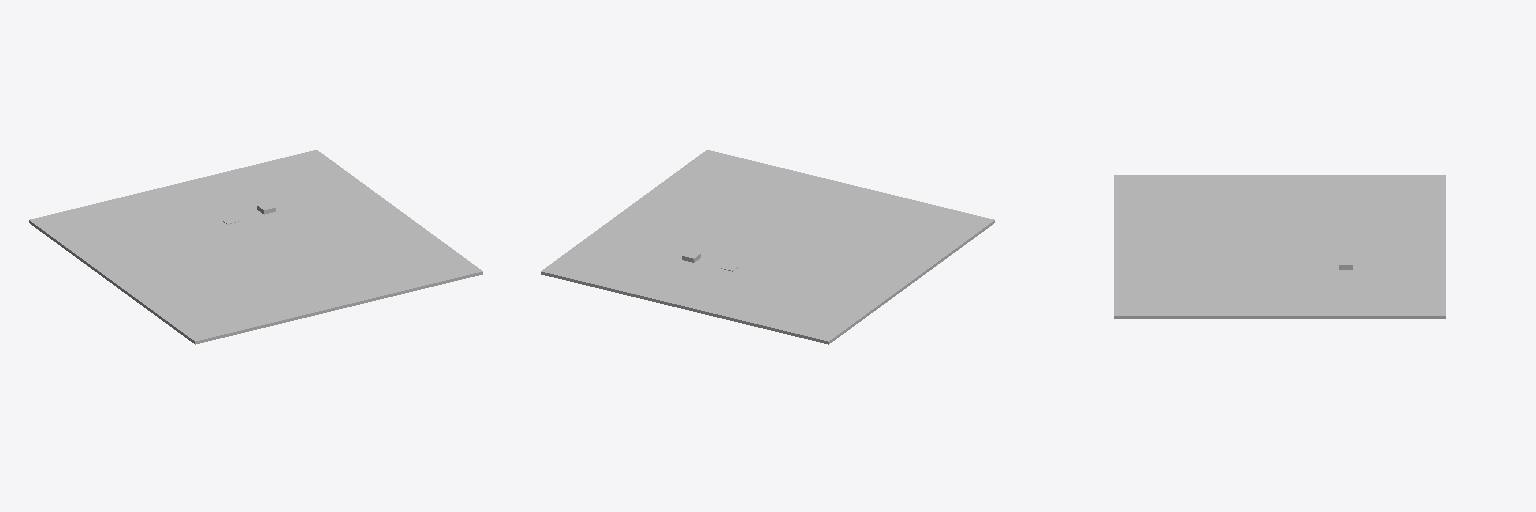
File: SSAO_test.obj
3 renders of one model, left to right at view 1: azimuth 30°, elevation 25°; view 2: azimuth 150°, elevation 25°; view 3: azimuth 270°, elevation 25°, orthographic.
Parts seen in each view (by area): view 1: Cube_Cube.001; view 2: Cube_Cube.001; view 3: Cube_Cube.001.
Boxes of the visible parts, box(x1,y1,x2,y2) form: Cube_Cube.001: box(29, 150, 482, 344); Cube_Cube.001: box(541, 150, 994, 344); Cube_Cube.001: box(1114, 175, 1445, 318).
Size of the model in its own units: 40 by 3.9 by 40.